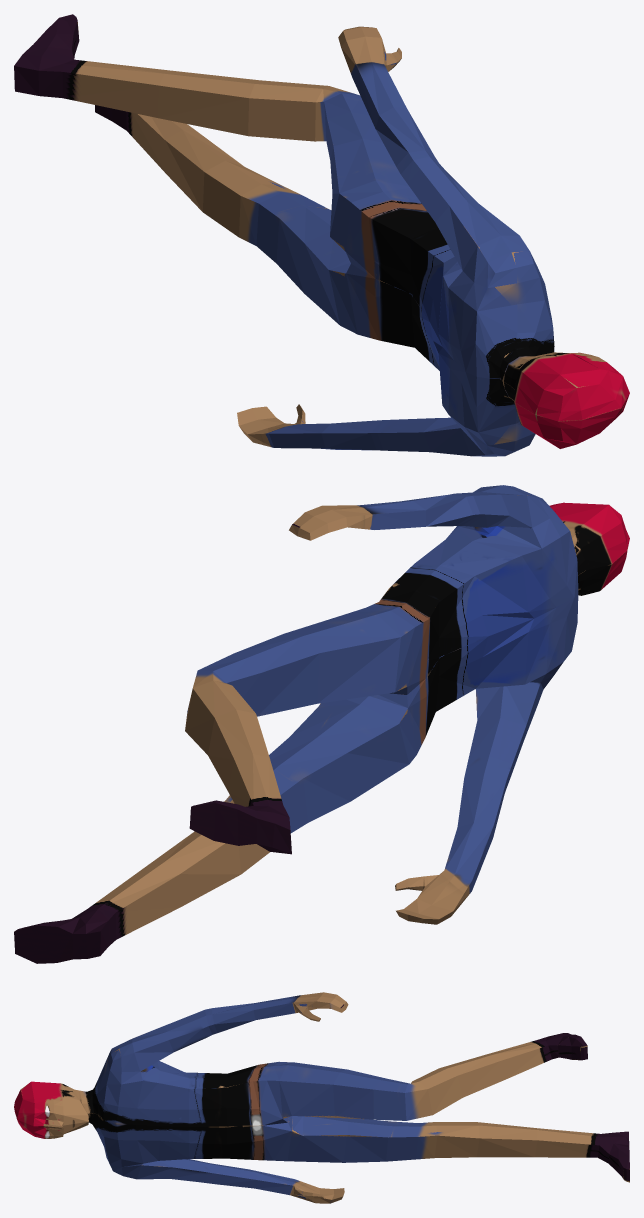
File: mirrorman_000031.obj
3 views of the same model, one above another, from view 1: azimuth 30°, elevation 25°; view 2: azimuth 150°, elevation 25°; view 3: azimuth 270°, elevation 25° (orthographic). The views are drawn at different scales.
Visible parts, largest first — view 1: mirrorman_Cube.001_Material.001; view 2: mirrorman_Cube.001_Material.001; view 3: mirrorman_Cube.001_Material.001.
Part boxes in pixels (x1=…): mirrorman_Cube.001_Material.001: x1=14, y1=14, x2=629, y2=456; mirrorman_Cube.001_Material.001: x1=14, y1=485, x2=629, y2=963; mirrorman_Cube.001_Material.001: x1=14, y1=992, x2=629, y2=1203.
Bounding box in the file's own units: 0.5042 × 0.7943 × 1.9.
Materials: 1 (1 with a texture image).
